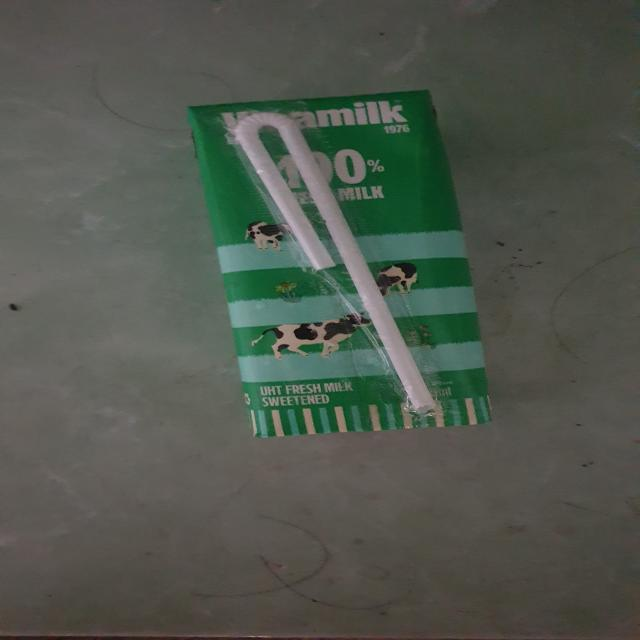Vina: (182, 88, 510, 446)
